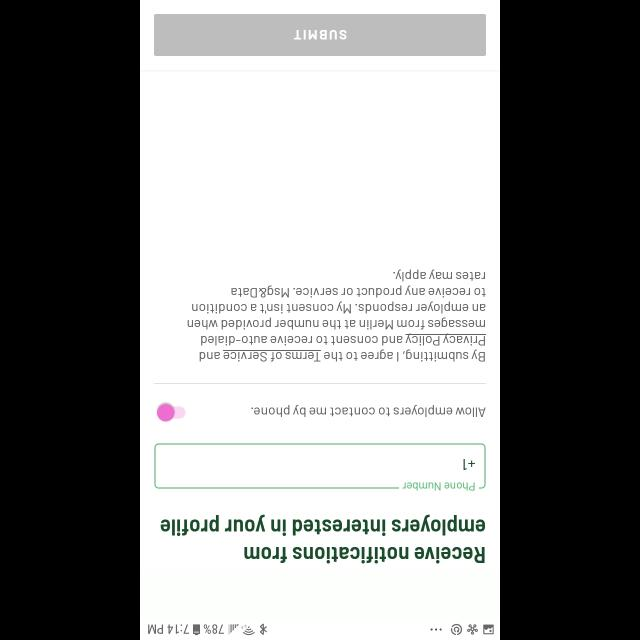input: (154, 444, 486, 491)
switch: (157, 404, 186, 422)
text: (187, 269, 485, 361), (160, 514, 484, 564), (251, 405, 485, 417), (402, 482, 474, 490), (463, 458, 475, 469)
textbutton: (154, 14, 486, 56)
uppertaskbar: (140, 623, 500, 639)
